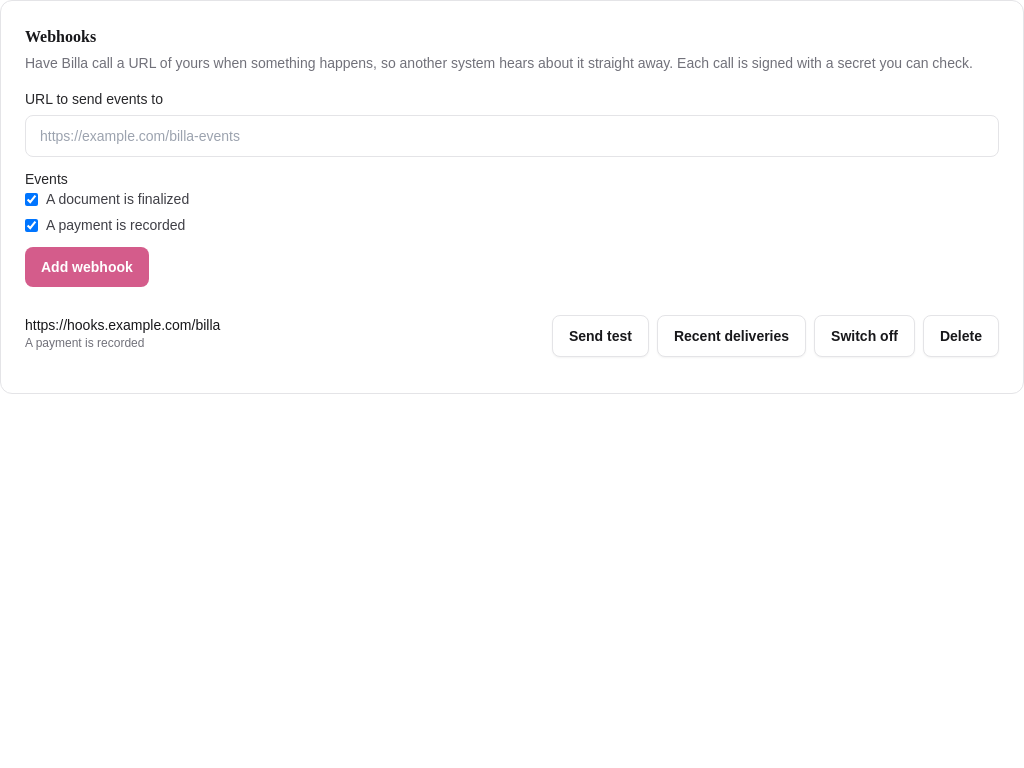
it: WebhooksSection › sends a test event
The image size is (1024, 768).
Click the button "Send test" at (600, 336), box [552,315,649,357]
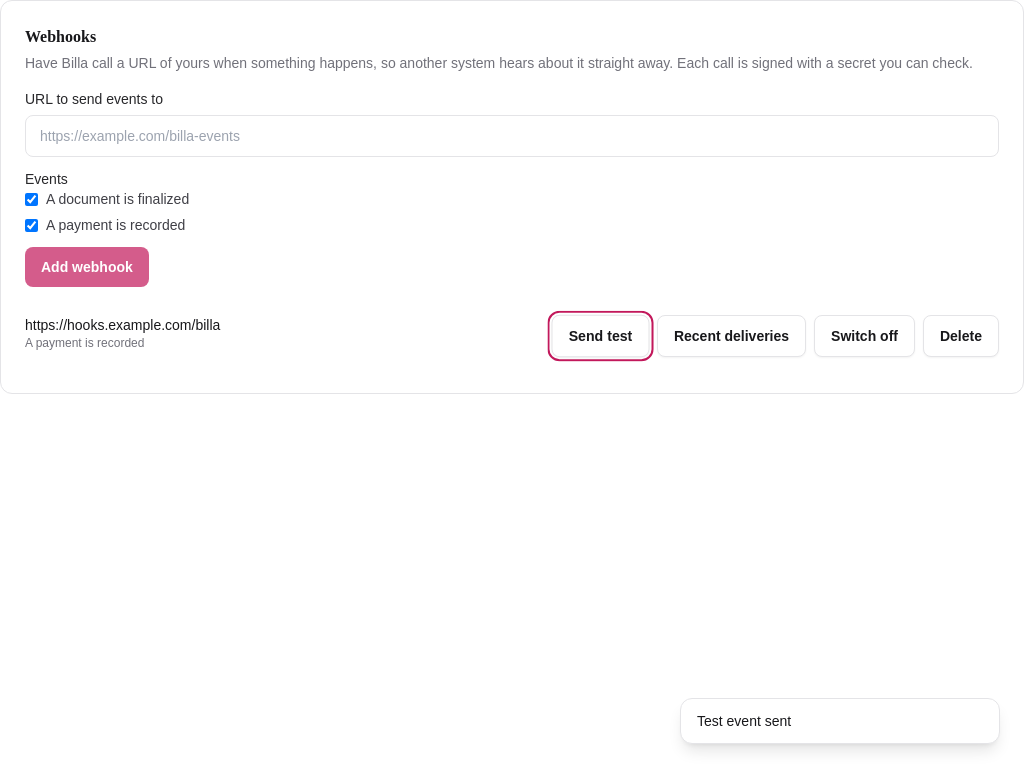
Expected: the text "Test event sent" is shown, [697,713,791,729]
